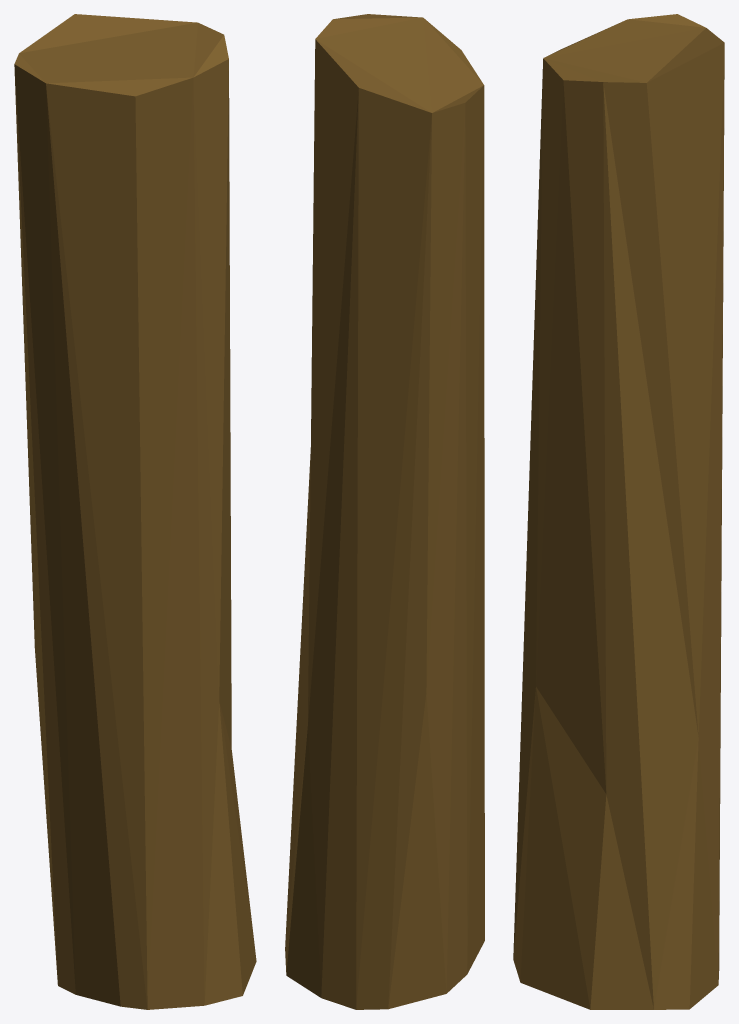
File: Prototype Fence Pole 02.FBX
3 renders of one model, left to right at view 1: azimuth 30°, elevation 25°; view 2: azimuth 150°, elevation 25°; view 3: azimuth 270°, elevation 25°, orthographic.
Visible parts, largest first — view 1: Prototype Fence Pole 02; view 2: Prototype Fence Pole 02; view 3: Prototype Fence Pole 02.
Boxes of the visible parts, x1,y1,x2,y2 form: Prototype Fence Pole 02: (14,14,256,1009); Prototype Fence Pole 02: (285,14,484,1009); Prototype Fence Pole 02: (513,14,724,1009).
Bounding box in the file's own units: 12.8 × 12 × 58.17.
